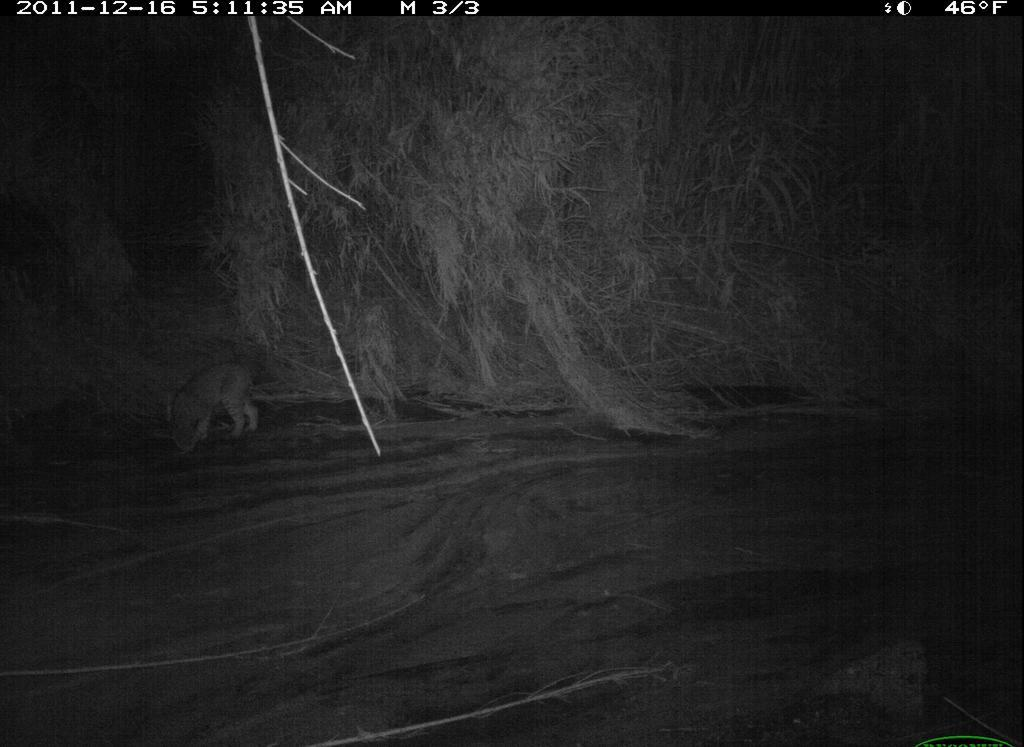bobcat: (154, 358, 274, 470)
